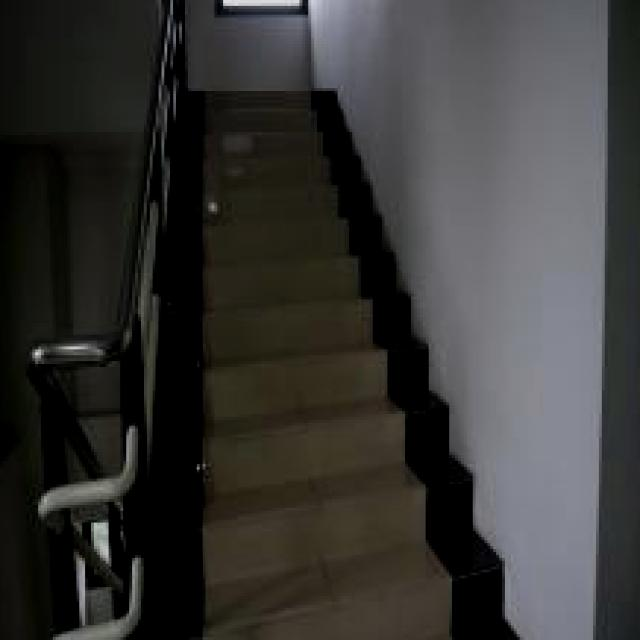upstair: (177, 110, 418, 621)
